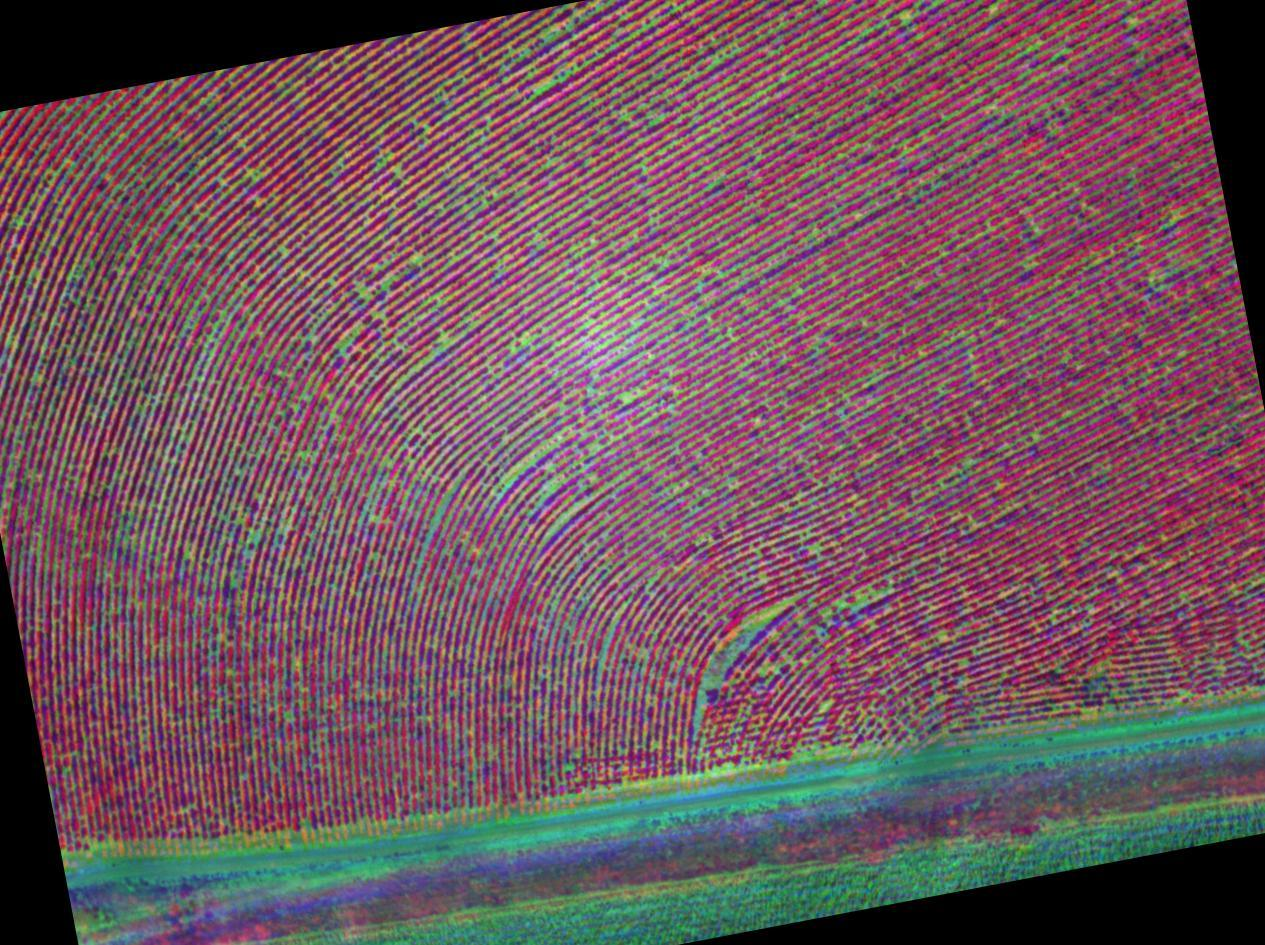dc: (216, 303, 310, 399), (696, 608, 765, 732), (516, 15, 592, 80), (803, 365, 864, 436), (371, 183, 456, 232)
